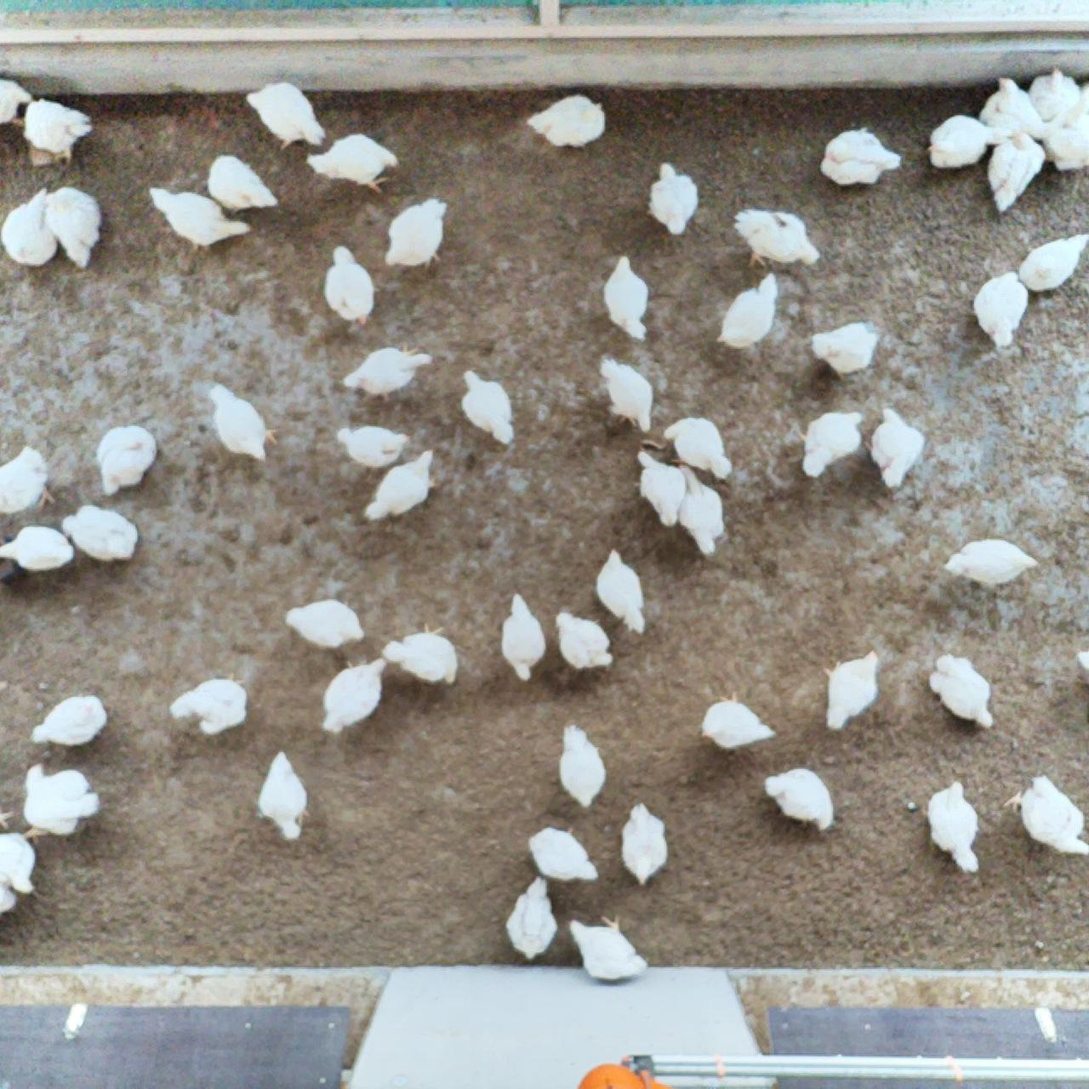chicken: (1003, 774, 1089, 860), (146, 185, 255, 252), (207, 380, 283, 465), (240, 77, 327, 151), (18, 765, 100, 840), (922, 779, 984, 876), (568, 912, 651, 983), (167, 670, 248, 741), (732, 206, 823, 269), (817, 123, 905, 188), (361, 448, 441, 519), (306, 131, 400, 191), (981, 130, 1045, 217), (256, 745, 312, 844), (867, 403, 929, 492), (716, 269, 782, 352), (340, 342, 438, 397), (321, 655, 389, 734), (926, 651, 994, 730), (59, 500, 141, 564), (44, 185, 103, 273), (671, 464, 728, 555), (383, 193, 450, 270), (942, 537, 1041, 589), (764, 765, 837, 835), (524, 92, 606, 154), (971, 269, 1033, 351), (0, 185, 61, 268), (554, 721, 609, 813), (380, 622, 460, 685), (660, 415, 735, 481), (616, 801, 673, 887), (21, 99, 93, 167), (601, 252, 653, 346), (698, 690, 777, 751), (594, 545, 648, 634), (321, 242, 378, 326), (825, 650, 882, 734), (596, 354, 655, 435), (283, 594, 368, 650), (456, 369, 517, 447), (94, 422, 158, 496), (925, 113, 1006, 171), (523, 824, 601, 884), (1016, 229, 1089, 293), (203, 153, 278, 215), (976, 73, 1043, 141), (506, 875, 560, 959), (29, 693, 108, 750), (800, 412, 864, 482), (0, 442, 60, 514), (0, 522, 80, 576), (636, 446, 687, 529), (643, 160, 698, 235), (500, 592, 545, 682), (812, 320, 881, 378), (333, 420, 412, 470), (1024, 63, 1079, 133), (0, 832, 43, 918), (555, 608, 614, 670), (1038, 122, 1089, 176), (0, 75, 38, 128), (1064, 79, 1089, 143)
